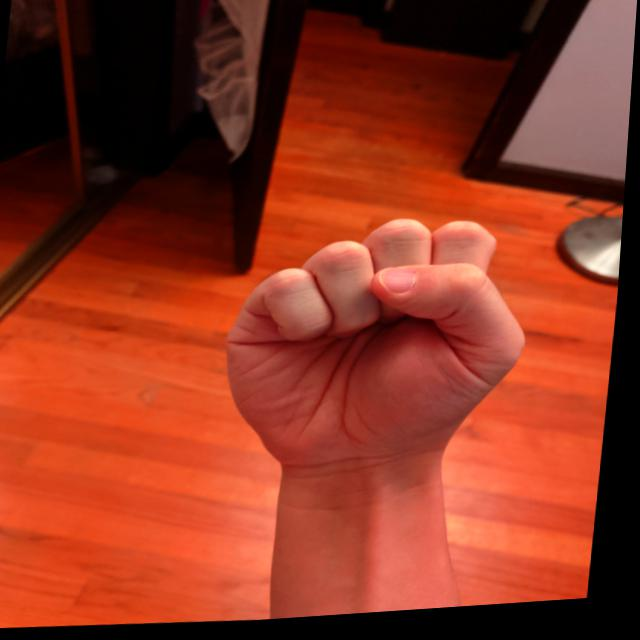S: (209, 205, 551, 493)
